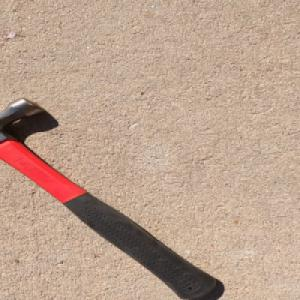Hammer: (0, 96, 221, 300)
